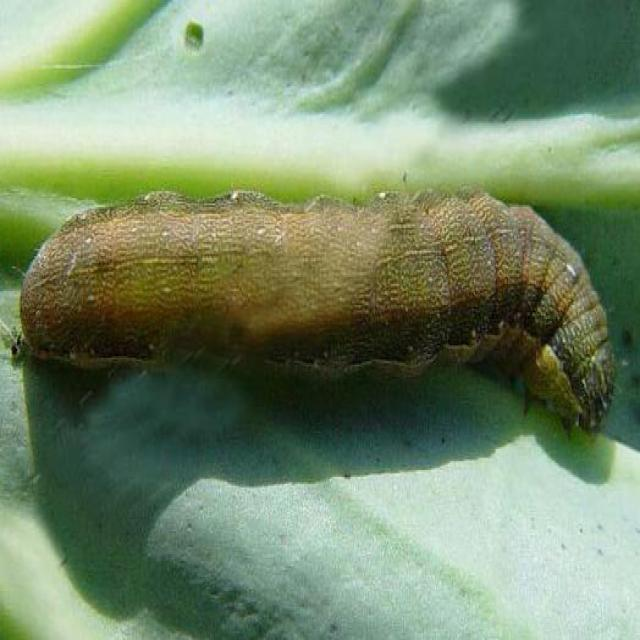BeetArmyWorm-Larva-: (14, 177, 624, 455)
